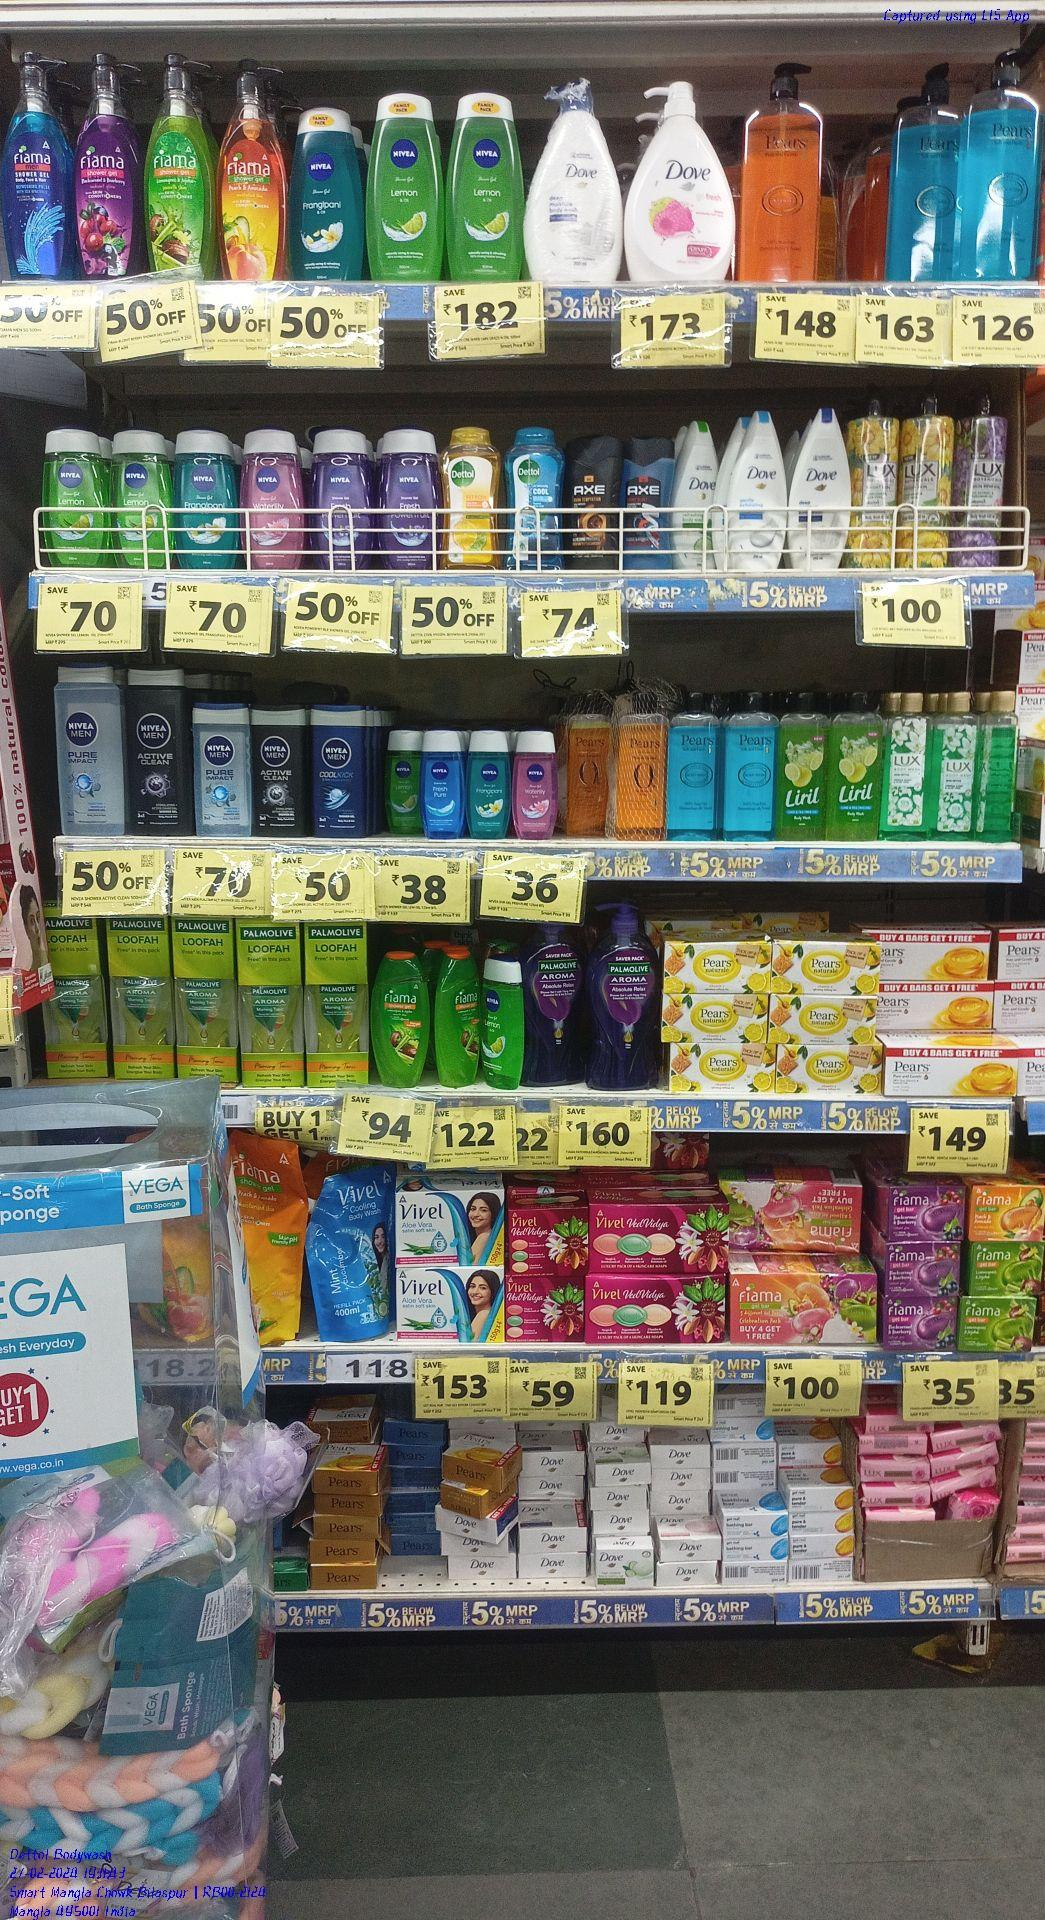Dettol_Bodywash_Cool: (507, 425, 564, 570)
Dettol_Bodywash_Refresh: (443, 426, 502, 571)
Dove_Deep_Moisture_Body_Wash_250ML: (790, 403, 851, 574)
Dove_Gentle_Exfoliating_Body_Wash_250ML: (734, 412, 788, 575)
Dove_Refreshing_Body_Wash_250ML: (673, 418, 713, 566)
Fiama_Shower_Gel_Lemongrass_and_Jojoba_250ML: (373, 951, 425, 1090), (438, 942, 481, 1090)
Liril_Lime_and_Tea_Tree_Oil_Body_Wash_250ML: (831, 687, 880, 843), (780, 691, 826, 843)
Lux_Body_Wash_Skin_Detox_Freesia_Scent_and_Alove_Vera_245ML: (934, 691, 978, 840), (887, 690, 927, 840)
Nivea_Shower_Gel_Frangipani_and_Oil_250ML: (291, 99, 363, 286), (175, 426, 238, 571), (467, 728, 508, 842)
Nivea_Shower_Gel_Fresh_Powerfruit_250ML: (311, 427, 373, 574), (378, 425, 436, 570)
Nivea_Shower_Gel_Lemon_and_Oil_250ML: (367, 90, 444, 283), (456, 91, 524, 287), (45, 422, 108, 571), (112, 426, 172, 571), (484, 956, 525, 1091), (384, 727, 420, 833)
Nivea_Shower_Gel_Waterlily_and_Oil_250ML: (241, 426, 305, 571), (513, 727, 559, 842)
Pears_Pure_Glycerin_and_Mint_Extracts_Body_Wash_250ML: (668, 691, 718, 840), (726, 687, 775, 840)
